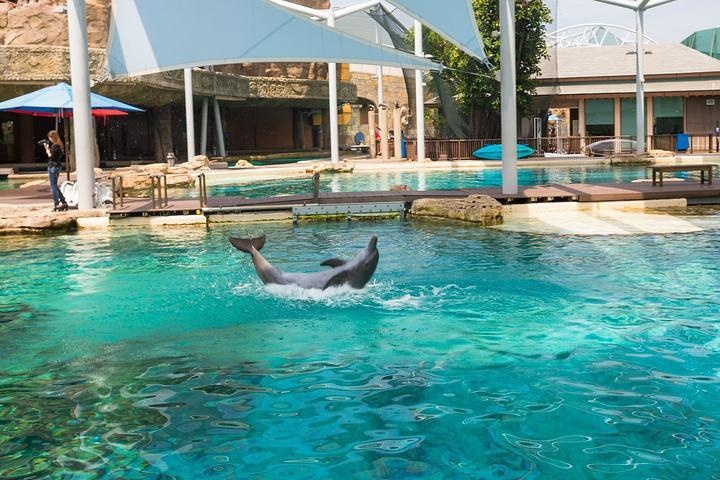fish: (222, 228, 385, 302)
